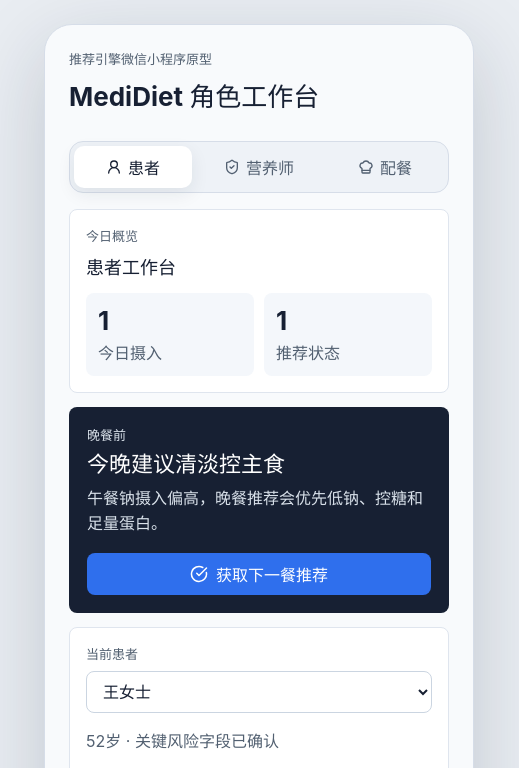
Scenario: App role workbench › requests backend recommendation from the patient workspace
Click the button "获取下一餐推荐" at (259, 574), box top-left (87, 553), bottom-right (431, 595)
(page scrolled)
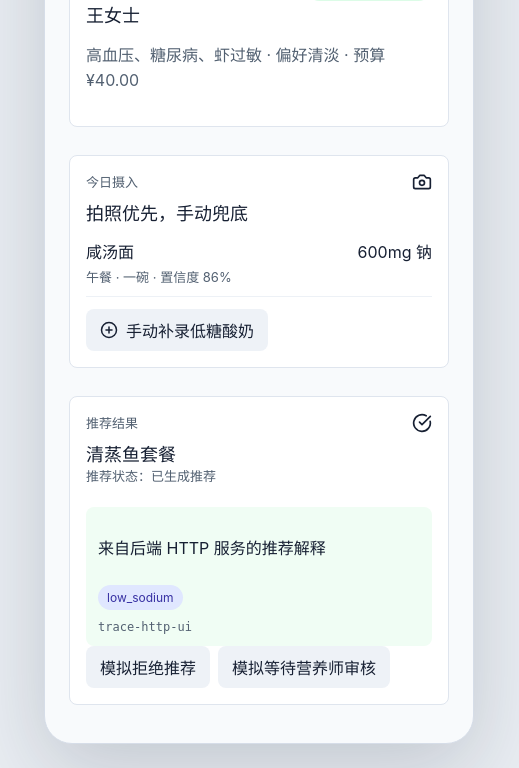
Check: the text "来自后端 HTTP 服务的推荐解释" is shown, box top-left (98, 538), bottom-right (326, 558)
Check: the text "trace-http-ui" is shown, box top-left (98, 620), bottom-right (192, 634)
